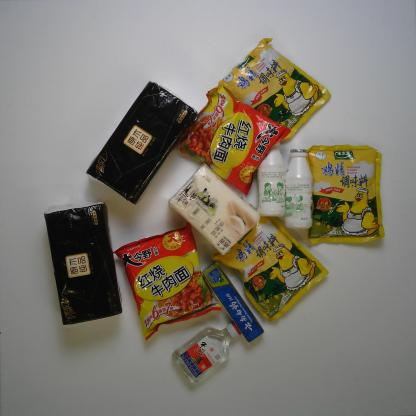Alcohol: (169, 320, 242, 387)
Instant Noodles: (112, 220, 223, 342), (174, 85, 292, 197)
Milk: (284, 148, 314, 230), (258, 142, 286, 218)
Personal Hygiene: (201, 261, 265, 344)
Seasoner: (211, 218, 331, 322), (217, 36, 333, 140), (307, 142, 386, 245)
Tissue: (84, 79, 198, 205), (43, 200, 123, 326), (167, 163, 260, 256)
